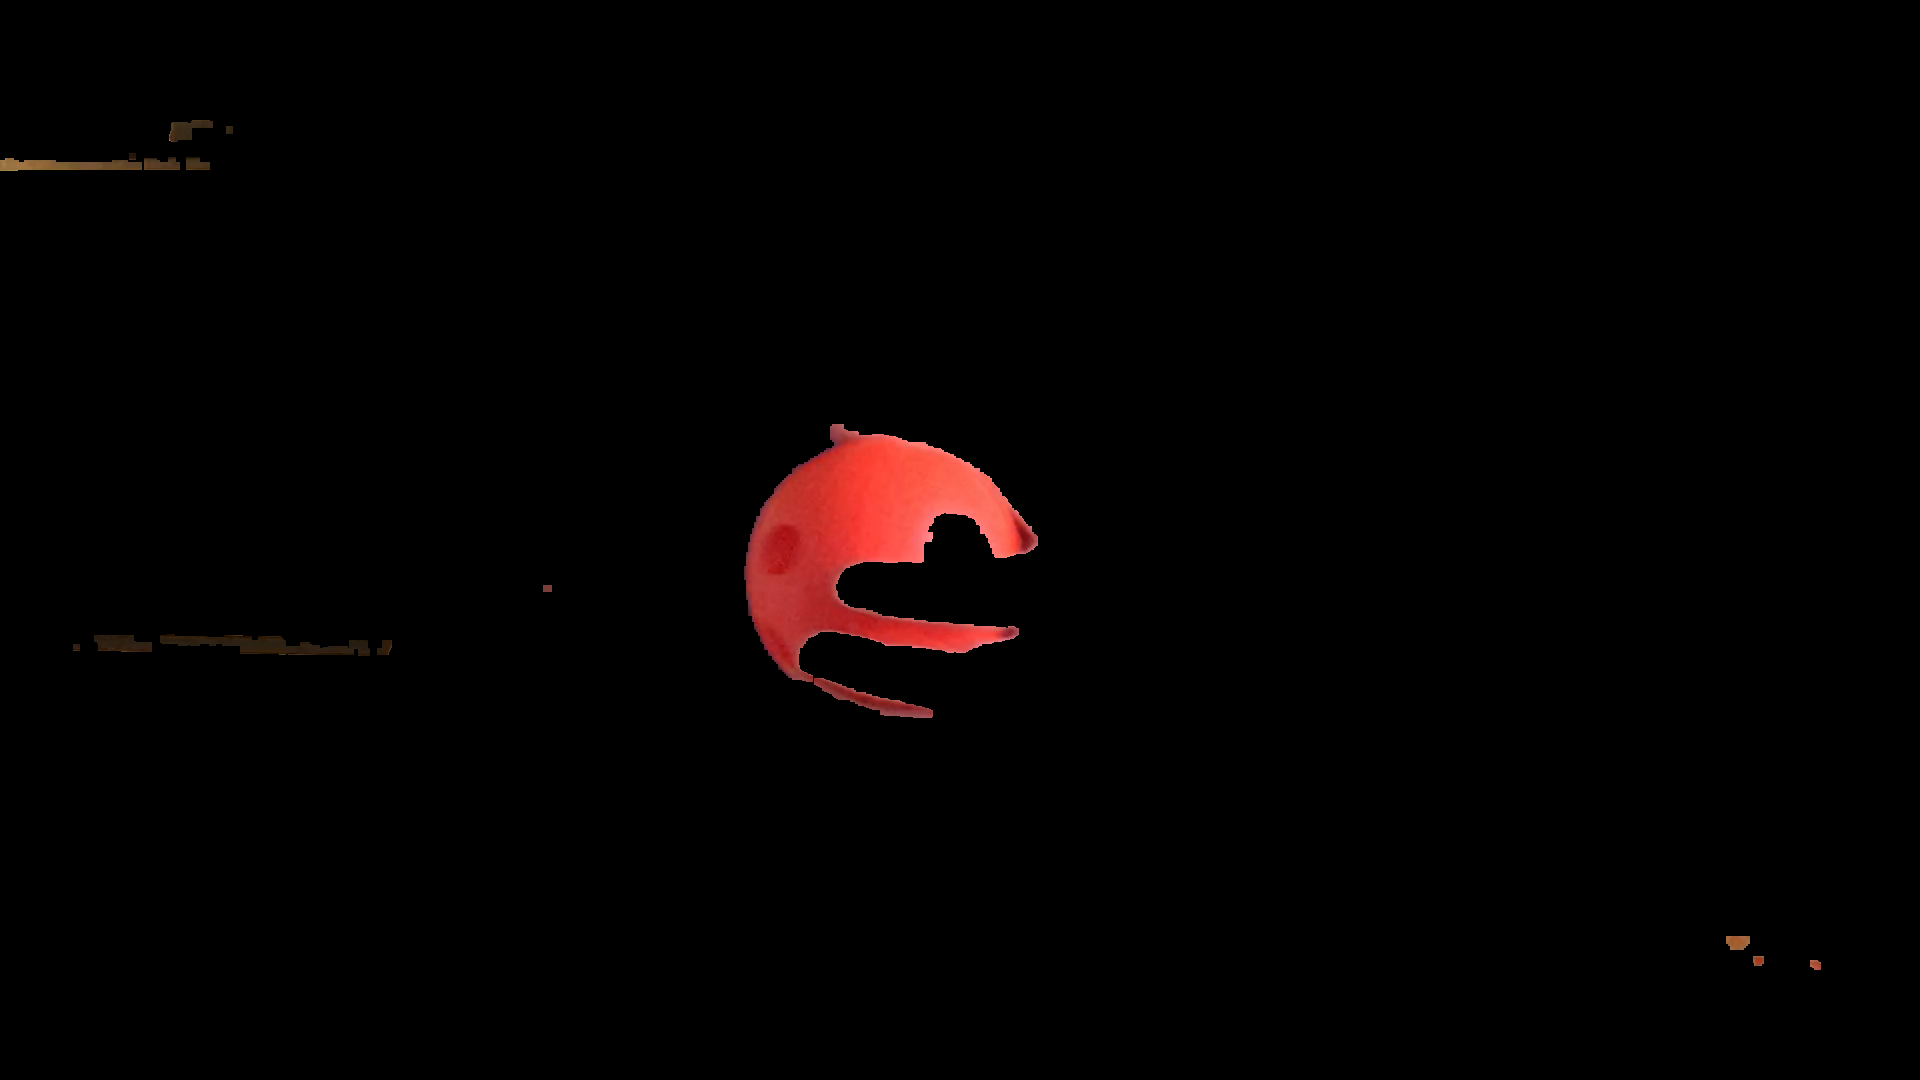Ball: (740, 436, 1031, 731)
